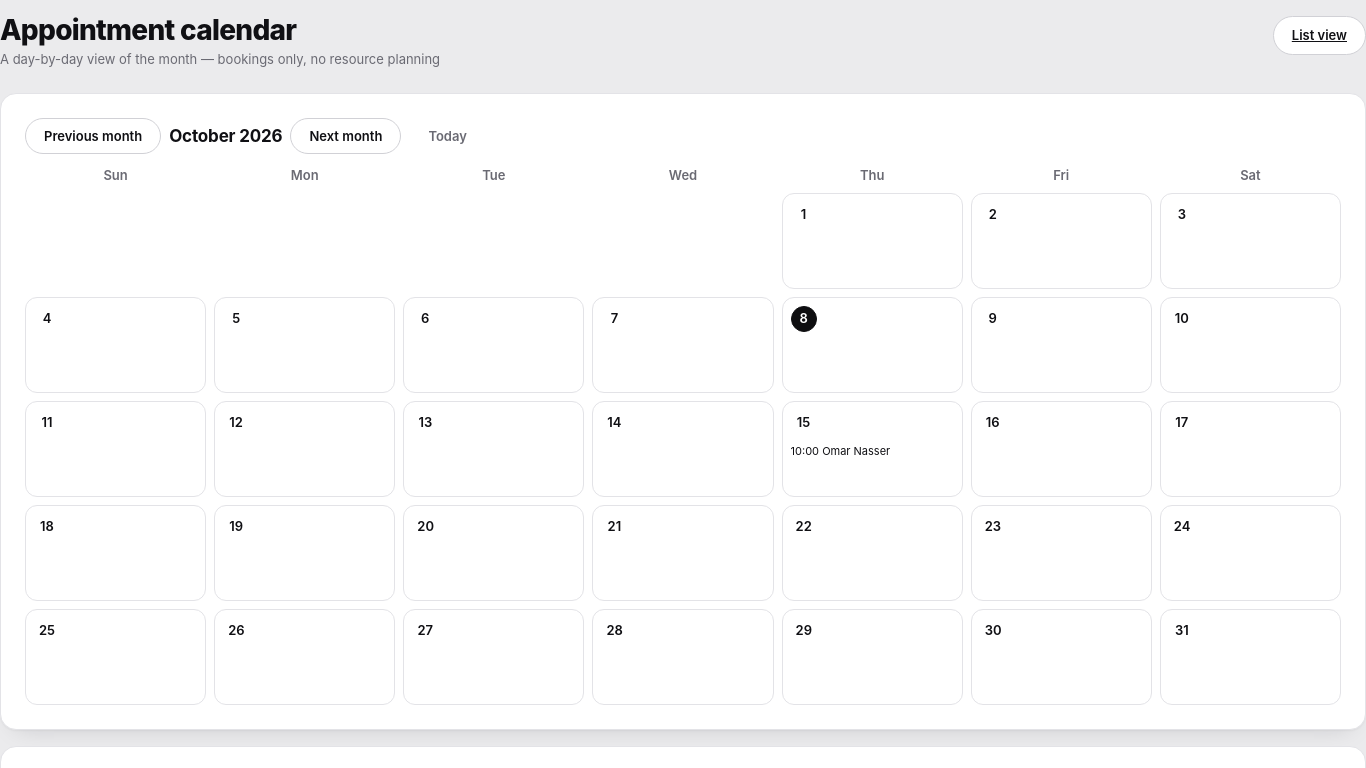
Test: AppointmentCalendarPage › shows the month grid and opens the selected day
Expected: the link "10:00 Omar Nasser" is shown, [791, 444, 890, 458]
Expected: the heading "Appointment calendar" is shown, [0, 13, 296, 47]
Click the button "15": x=804, y=423 [791, 410, 817, 436]
(page scrolled)
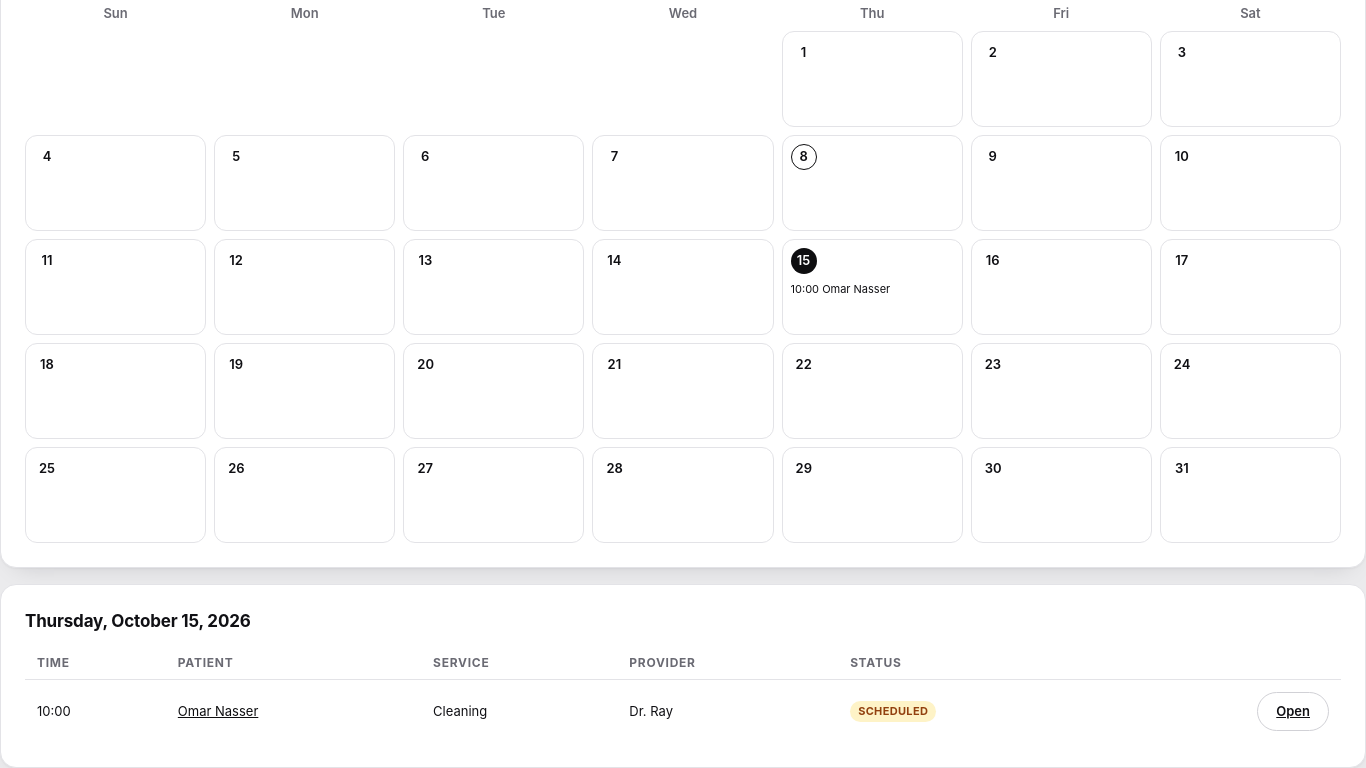
Result: the link "Open" is shown at [1257, 692, 1329, 731]
Result: the text "Dr. Ray" is shown at [617, 679, 838, 743]
Result: the text "Cleaning" is shown at [421, 679, 617, 743]
